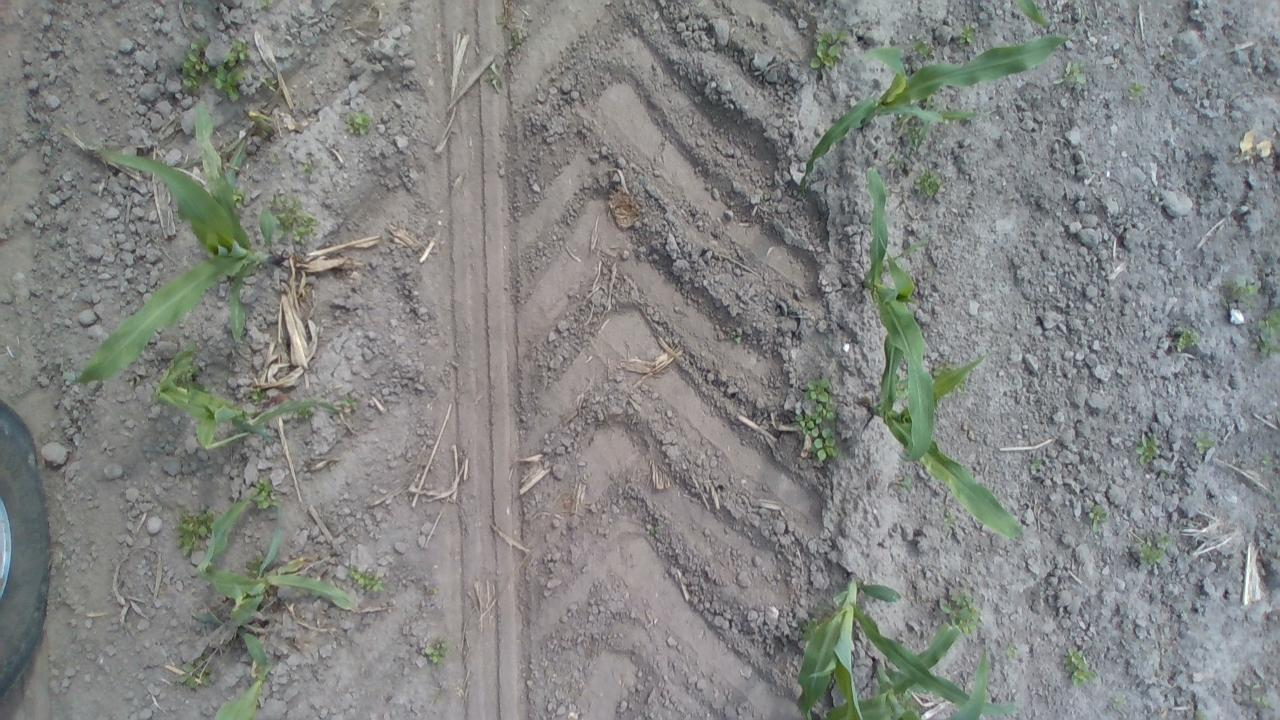Maize: (61, 95, 282, 391), (854, 234, 1034, 547), (794, 28, 1074, 195), (193, 487, 360, 720), (794, 569, 1028, 720), (856, 164, 940, 468), (152, 342, 351, 457), (823, 626, 992, 720), (1009, 0, 1064, 29)
Weeds: (792, 375, 844, 462), (264, 190, 322, 251), (932, 592, 984, 638), (1060, 642, 1108, 691), (174, 505, 220, 556), (1132, 523, 1177, 569), (179, 30, 211, 94), (810, 25, 850, 72), (1254, 303, 1280, 360), (1224, 273, 1264, 310), (175, 657, 217, 690), (248, 476, 284, 514), (346, 566, 386, 600), (210, 66, 244, 105), (1057, 58, 1088, 98), (1085, 495, 1113, 535), (913, 170, 943, 205), (220, 38, 253, 68), (897, 120, 928, 150), (1170, 326, 1201, 355), (422, 636, 450, 668), (889, 470, 917, 502), (886, 148, 915, 178), (241, 554, 274, 580), (1134, 432, 1161, 463), (1117, 76, 1145, 105), (1188, 430, 1218, 457), (342, 112, 375, 136), (484, 60, 506, 92), (337, 392, 362, 420), (1250, 694, 1280, 716), (508, 22, 528, 50), (957, 19, 977, 45), (915, 36, 934, 62), (298, 152, 316, 179), (942, 508, 964, 528), (230, 188, 252, 207), (256, 73, 276, 92), (1002, 641, 1020, 662), (1029, 454, 1046, 474), (1190, 707, 1216, 720), (248, 0, 276, 12), (730, 334, 749, 350)
